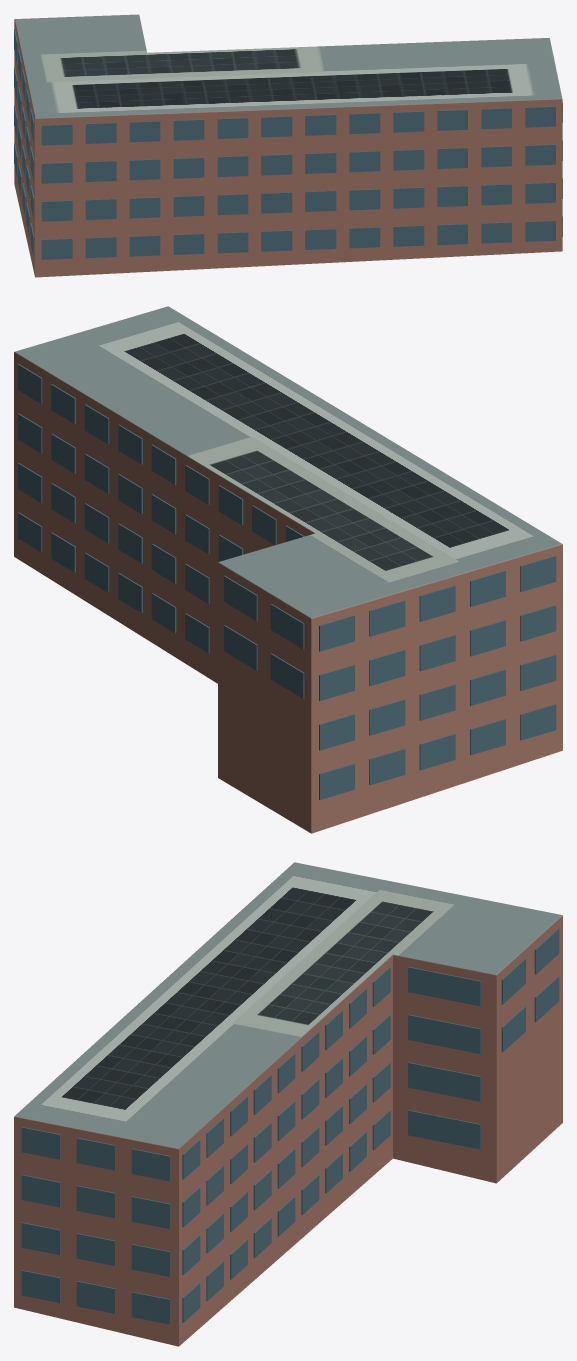
File: fragments.glb
3 renders of one model, top to bottom at view 1: azimuth 30°, elevation 25°; view 2: azimuth 150°, elevation 25°; view 3: azimuth 270°, elevation 25°, orthographic. The views are drawn at different scales.
Parts seen in each view (by area): view 1: SM_468931907_Fragment_032, SM_468931907_Fragment_014, SM_468931907_Fragment_019, SM_468931907_Fragment_004, SM_468931907_Fragment_030, SM_468931907_Fragment_003, SM_468931907_Fragment_057, SM_468931907_Fragment_060, SM_468931907_Fragment_025, SM_468931907_Fragment_051, SM_468931907_Fragment_007, SM_468931907_Fragment_009 (+25 smaller); view 2: SM_468931907_Fragment_008, SM_468931907_Fragment_027, SM_468931907_Fragment_002, SM_468931907_Fragment_054, SM_468931907_Fragment_063, SM_468931907_Fragment_048, SM_468931907_Fragment_040, SM_468931907_Fragment_029, SM_468931907_Fragment_010, SM_468931907_Fragment_028, SM_468931907_Fragment_044, SM_468931907_Fragment_021 (+25 smaller); view 3: SM_468931907_Fragment_005, SM_468931907_Fragment_040, SM_468931907_Fragment_015, SM_468931907_Fragment_056, SM_468931907_Fragment_059, SM_468931907_Fragment_001, SM_468931907_Fragment_009, SM_468931907_Fragment_048, SM_468931907_Fragment_043, SM_468931907_Fragment_023, SM_468931907_Fragment_016, SM_468931907_Fragment_021 (+25 smaller).
Part boxes in pixels (box(x1,y1,x2,y2)): SM_468931907_Fragment_032: box(390, 146, 489, 258); SM_468931907_Fragment_014: box(217, 79, 320, 186); SM_468931907_Fragment_019: box(34, 113, 139, 212); SM_468931907_Fragment_004: box(112, 80, 226, 168); SM_468931907_Fragment_030: box(332, 72, 433, 157); SM_468931907_Fragment_003: box(454, 72, 560, 160); SM_468931907_Fragment_057: box(167, 132, 259, 224); SM_468931907_Fragment_060: box(78, 159, 174, 248); SM_468931907_Fragment_025: box(210, 184, 297, 267); SM_468931907_Fragment_051: box(276, 144, 361, 226); SM_468931907_Fragment_007: box(124, 215, 220, 272); SM_468931907_Fragment_009: box(499, 156, 562, 252); SM_468931907_Fragment_008: box(257, 582, 383, 703); SM_468931907_Fragment_027: box(338, 546, 468, 671); SM_468931907_Fragment_002: box(470, 605, 562, 740); SM_468931907_Fragment_054: box(447, 555, 557, 667); SM_468931907_Fragment_063: box(255, 653, 354, 789); SM_468931907_Fragment_048: box(387, 511, 562, 562); SM_468931907_Fragment_040: box(218, 530, 386, 595); SM_468931907_Fragment_029: box(18, 428, 109, 560); SM_468931907_Fragment_010: box(114, 404, 226, 502); SM_468931907_Fragment_028: box(334, 649, 423, 765); SM_468931907_Fragment_044: box(49, 360, 143, 463); SM_468931907_Fragment_021: box(214, 457, 346, 554); SM_468931907_Fragment_005: box(408, 958, 533, 1110); SM_468931907_Fragment_040: box(363, 923, 525, 1027); SM_468931907_Fragment_015: box(108, 1104, 210, 1234); SM_468931907_Fragment_056: box(14, 1101, 132, 1211); SM_468931907_Fragment_059: box(66, 1185, 183, 1313); SM_468931907_Fragment_001: box(101, 1258, 231, 1346); SM_468931907_Fragment_009: box(14, 1188, 91, 1315); SM_468931907_Fragment_048: box(261, 862, 383, 932); SM_468931907_Fragment_043: box(257, 932, 390, 1034); SM_468931907_Fragment_023: box(348, 1032, 416, 1186); SM_468931907_Fragment_016: box(375, 1104, 480, 1178); SM_468931907_Fragment_021: box(248, 972, 366, 1066).
Size of the model in its own units: 2.2 by 0.7459 by 1.78.
5 materials, 1 textured.
